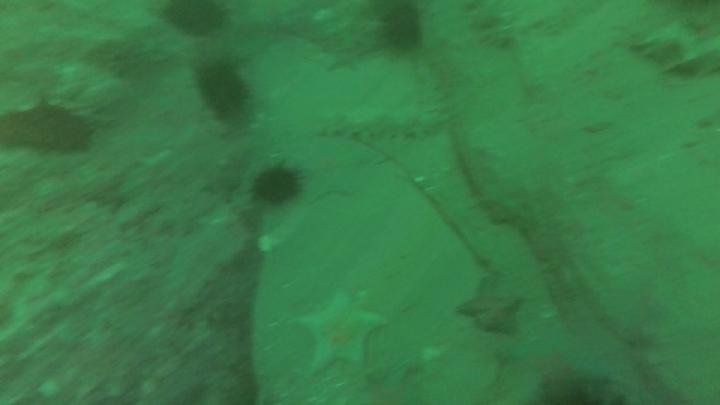echinus: (199, 64, 248, 110), (168, 1, 226, 37), (257, 167, 302, 204), (382, 3, 419, 43)
holothurian: (639, 27, 720, 77), (321, 107, 440, 141)
starfish: (299, 294, 385, 371), (458, 280, 523, 332)
